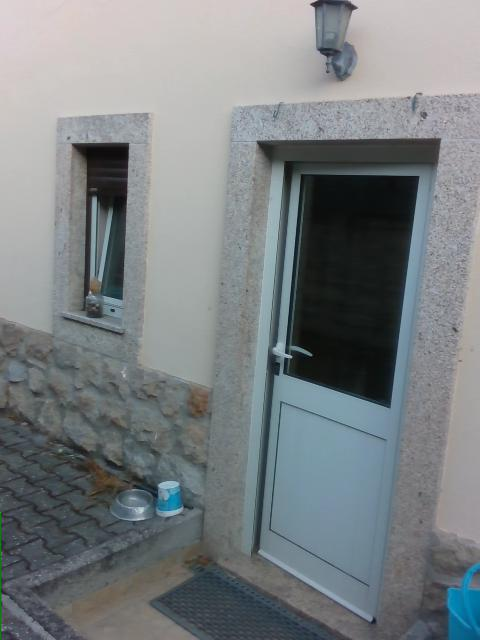door: (232, 138, 440, 628)
